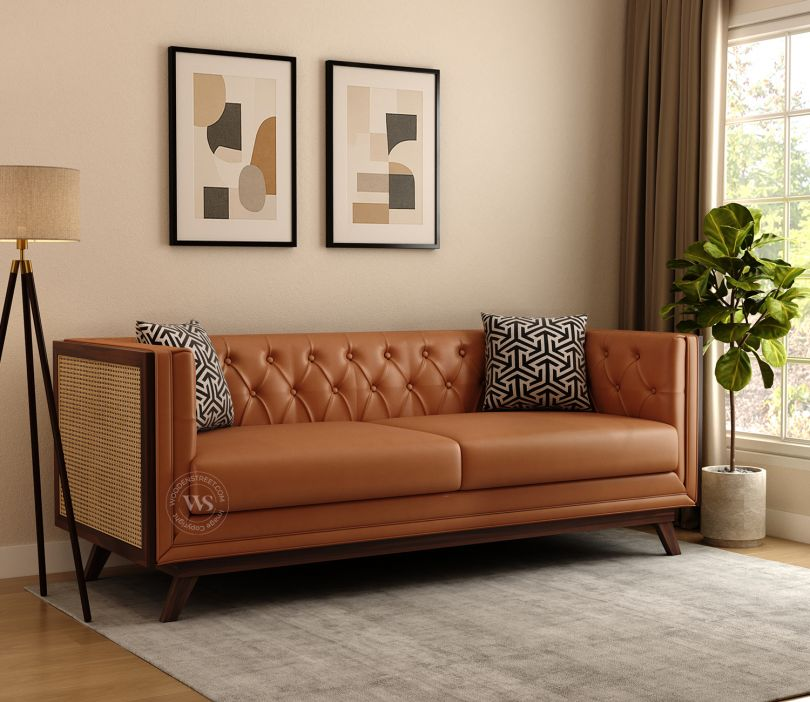3seatersofa: (55, 317, 700, 620)
backrest: (212, 331, 483, 425), (87, 335, 133, 340)
base: (159, 473, 696, 564)
leftarmrest: (587, 330, 696, 498)
leg: (158, 509, 679, 622), (85, 544, 110, 579)
rightarmrest: (55, 340, 195, 565), (56, 488, 66, 527)
seat: (193, 412, 677, 510)
